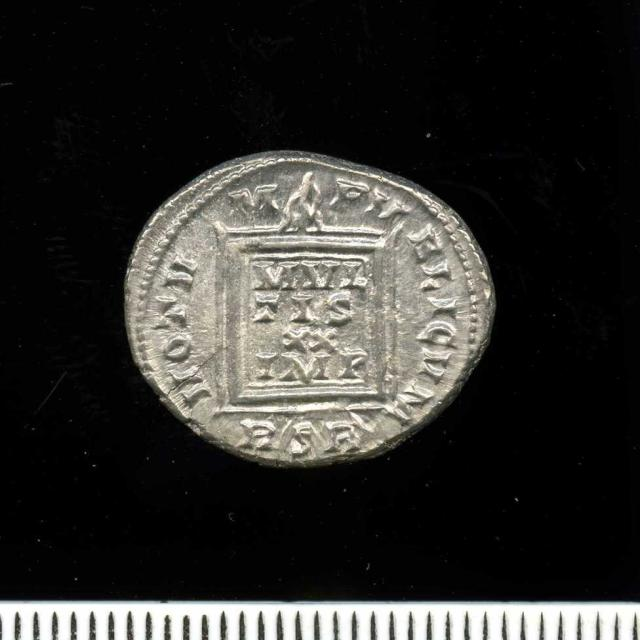Coin: (126, 150, 497, 464)
